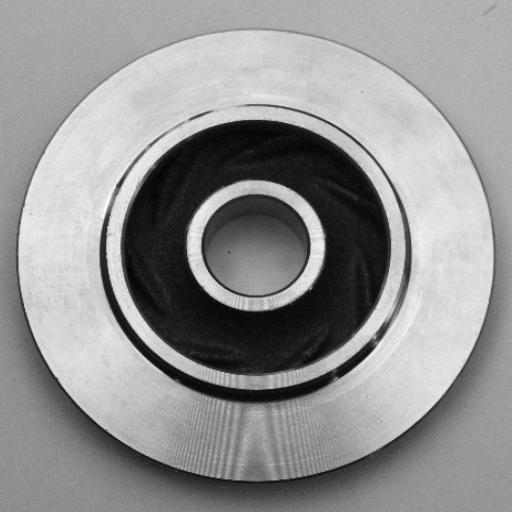unpolished_casting: (17, 24, 494, 485), (159, 94, 270, 131)
